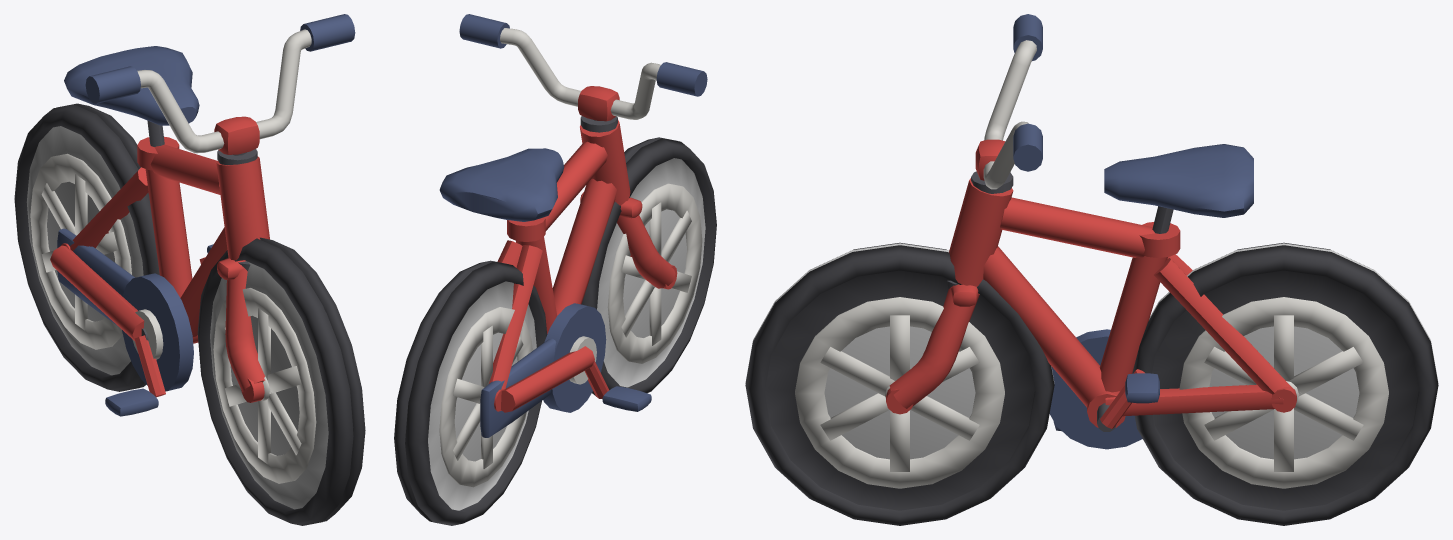
File: bike.glb
3 renders of one model, left to right at view 1: azimuth 30°, elevation 25°; view 2: azimuth 150°, elevation 25°; view 3: azimuth 270°, elevation 25°, orthographic. The views are drawn at different scales.
Parts seen in each view (by area): view 1: wheel_f, frame, wheel_r, fork, crank_mesh; view 2: frame, wheel_r, wheel_f, fork, crank_mesh; view 3: wheel_f, wheel_r, frame, fork, crank_mesh.
Boxes of the visible parts, x1=… form: wheel_f: x1=197, y1=237, x2=365, y2=525; frame: x1=50, y1=46, x2=269, y2=391; wheel_r: x1=14, y1=103, x2=159, y2=391; fork: x1=85, y1=14, x2=355, y2=402; crank_mesh: x1=105, y1=244, x2=213, y2=416; frame: x1=439, y1=116, x2=630, y2=437; wheel_r: x1=394, y1=260, x2=547, y2=525; wheel_f: x1=581, y1=137, x2=716, y2=399; fork: x1=459, y1=14, x2=707, y2=289; crank_mesh: x1=569, y1=336, x2=651, y2=411; wheel_f: x1=745, y1=242, x2=1054, y2=525; wheel_r: x1=1132, y1=242, x2=1438, y2=525; frame: x1=946, y1=144, x2=1296, y2=449; fork: x1=886, y1=14, x2=1042, y2=414; crank_mesh: x1=1053, y1=369, x2=1159, y2=431.
Size of the model in its own units: 0.62 by 0.985 by 1.39.
